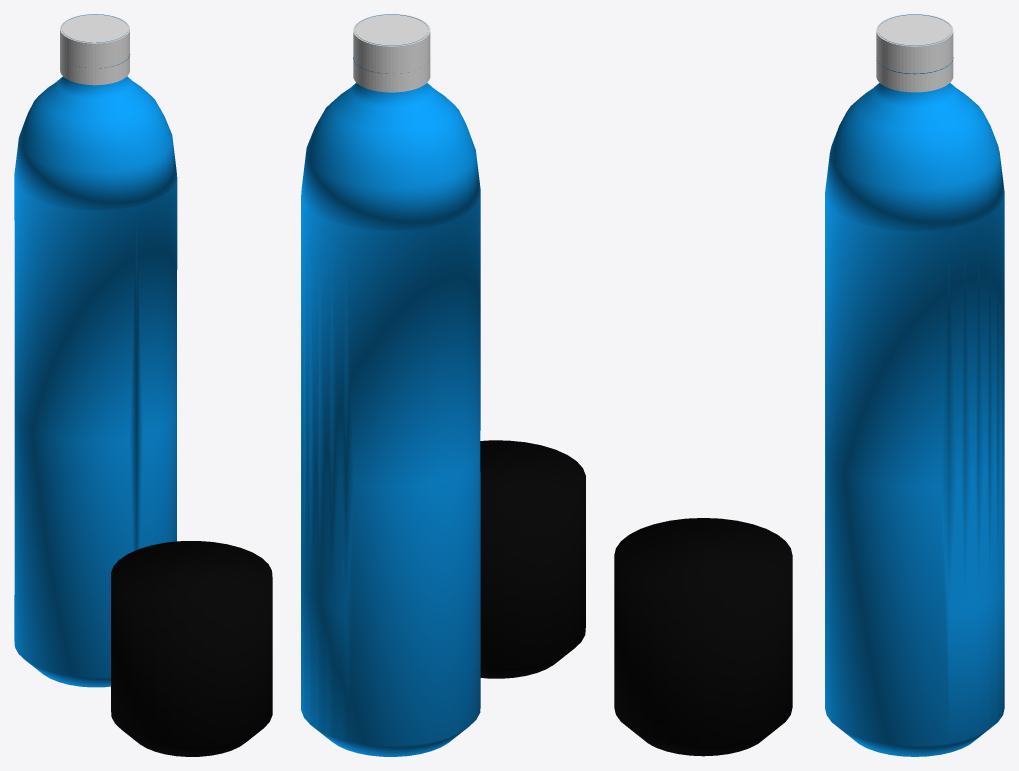
The model's file is waterbottle.glb.
3 renders of one model, left to right at view 1: azimuth 30°, elevation 25°; view 2: azimuth 150°, elevation 25°; view 3: azimuth 270°, elevation 25°, orthographic. The views are drawn at different scales.
Parts seen in each view (by area): view 1: Circle, Circle.001, Cylinder; view 2: Circle, Circle.001, Cylinder; view 3: Circle, Circle.001, Cylinder.
Part boxes in pixels (bbox=[...]): Circle: bbox=[14, 14, 177, 687]; Circle.001: bbox=[111, 541, 272, 756]; Cylinder: bbox=[60, 14, 129, 85]; Circle: bbox=[301, 14, 480, 756]; Circle.001: bbox=[480, 440, 585, 678]; Cylinder: bbox=[353, 14, 430, 92]; Circle: bbox=[825, 14, 1004, 756]; Circle.001: bbox=[614, 518, 792, 756]; Cylinder: bbox=[876, 14, 953, 92].
Bounding box in the file's own units: 0.07 × 0.3 × 0.152.
